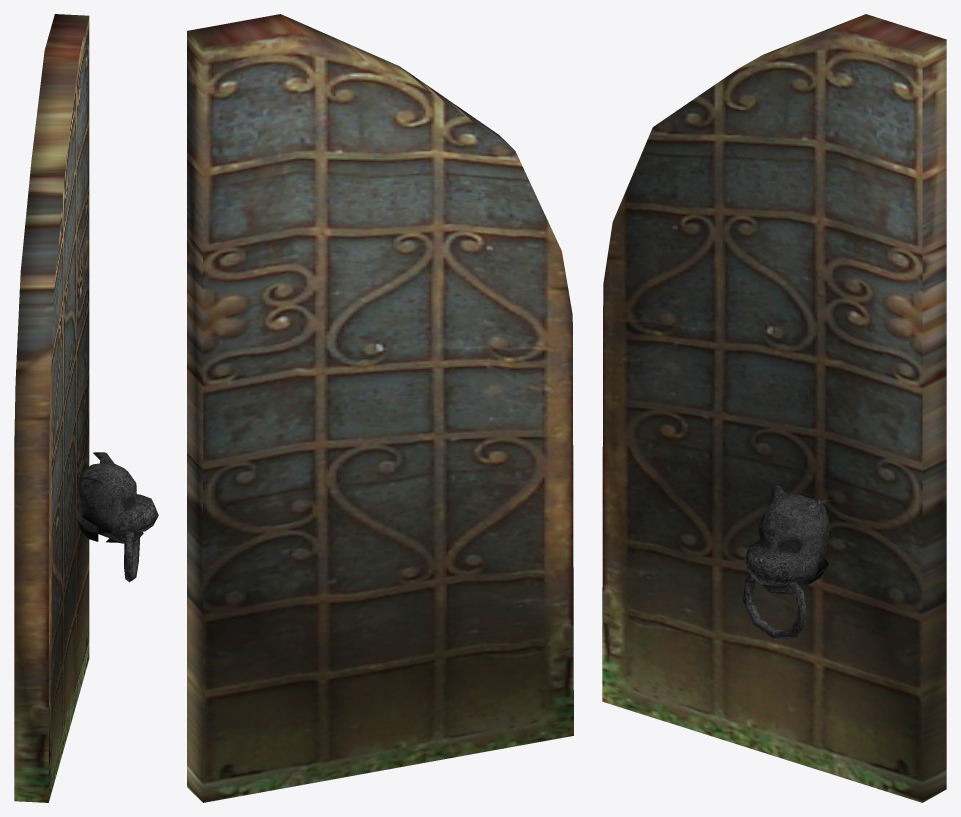
The model's file is LeftDoorOpen.glb.
The picture shows the model from 3 angles, left to right: view 1: azimuth 30°, elevation 25°; view 2: azimuth 150°, elevation 25°; view 3: azimuth 270°, elevation 25°; orthographic projection. The views are drawn at different scales.
Visible parts, largest first — view 1: metaldoor.jpg__, nolok_ao.jpg__; view 2: metaldoor.jpg__; view 3: metaldoor.jpg__, nolok_ao.jpg__.
Part boxes in pixels (x1,y1,x2,y2): metaldoor.jpg__: (14,14,89,802); nolok_ao.jpg__: (75,452,158,582); metaldoor.jpg__: (187,14,573,802); metaldoor.jpg__: (602,14,946,802); nolok_ao.jpg__: (742,484,833,639).
Bounding box in the file's own units: 7.56 × 22.69 × 9.45.
Materials: 2 (2 with a texture image).
